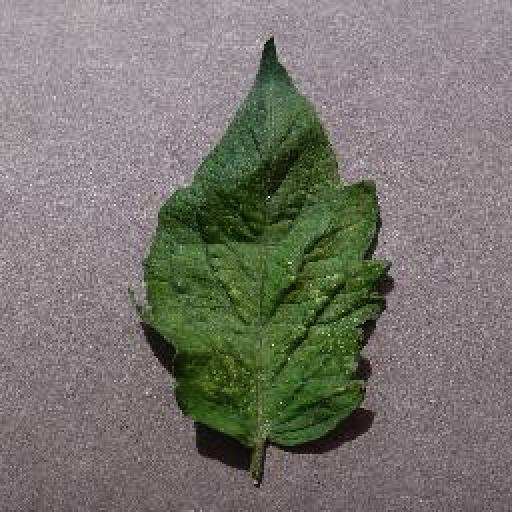disease_tomato: (141, 34, 391, 448)
